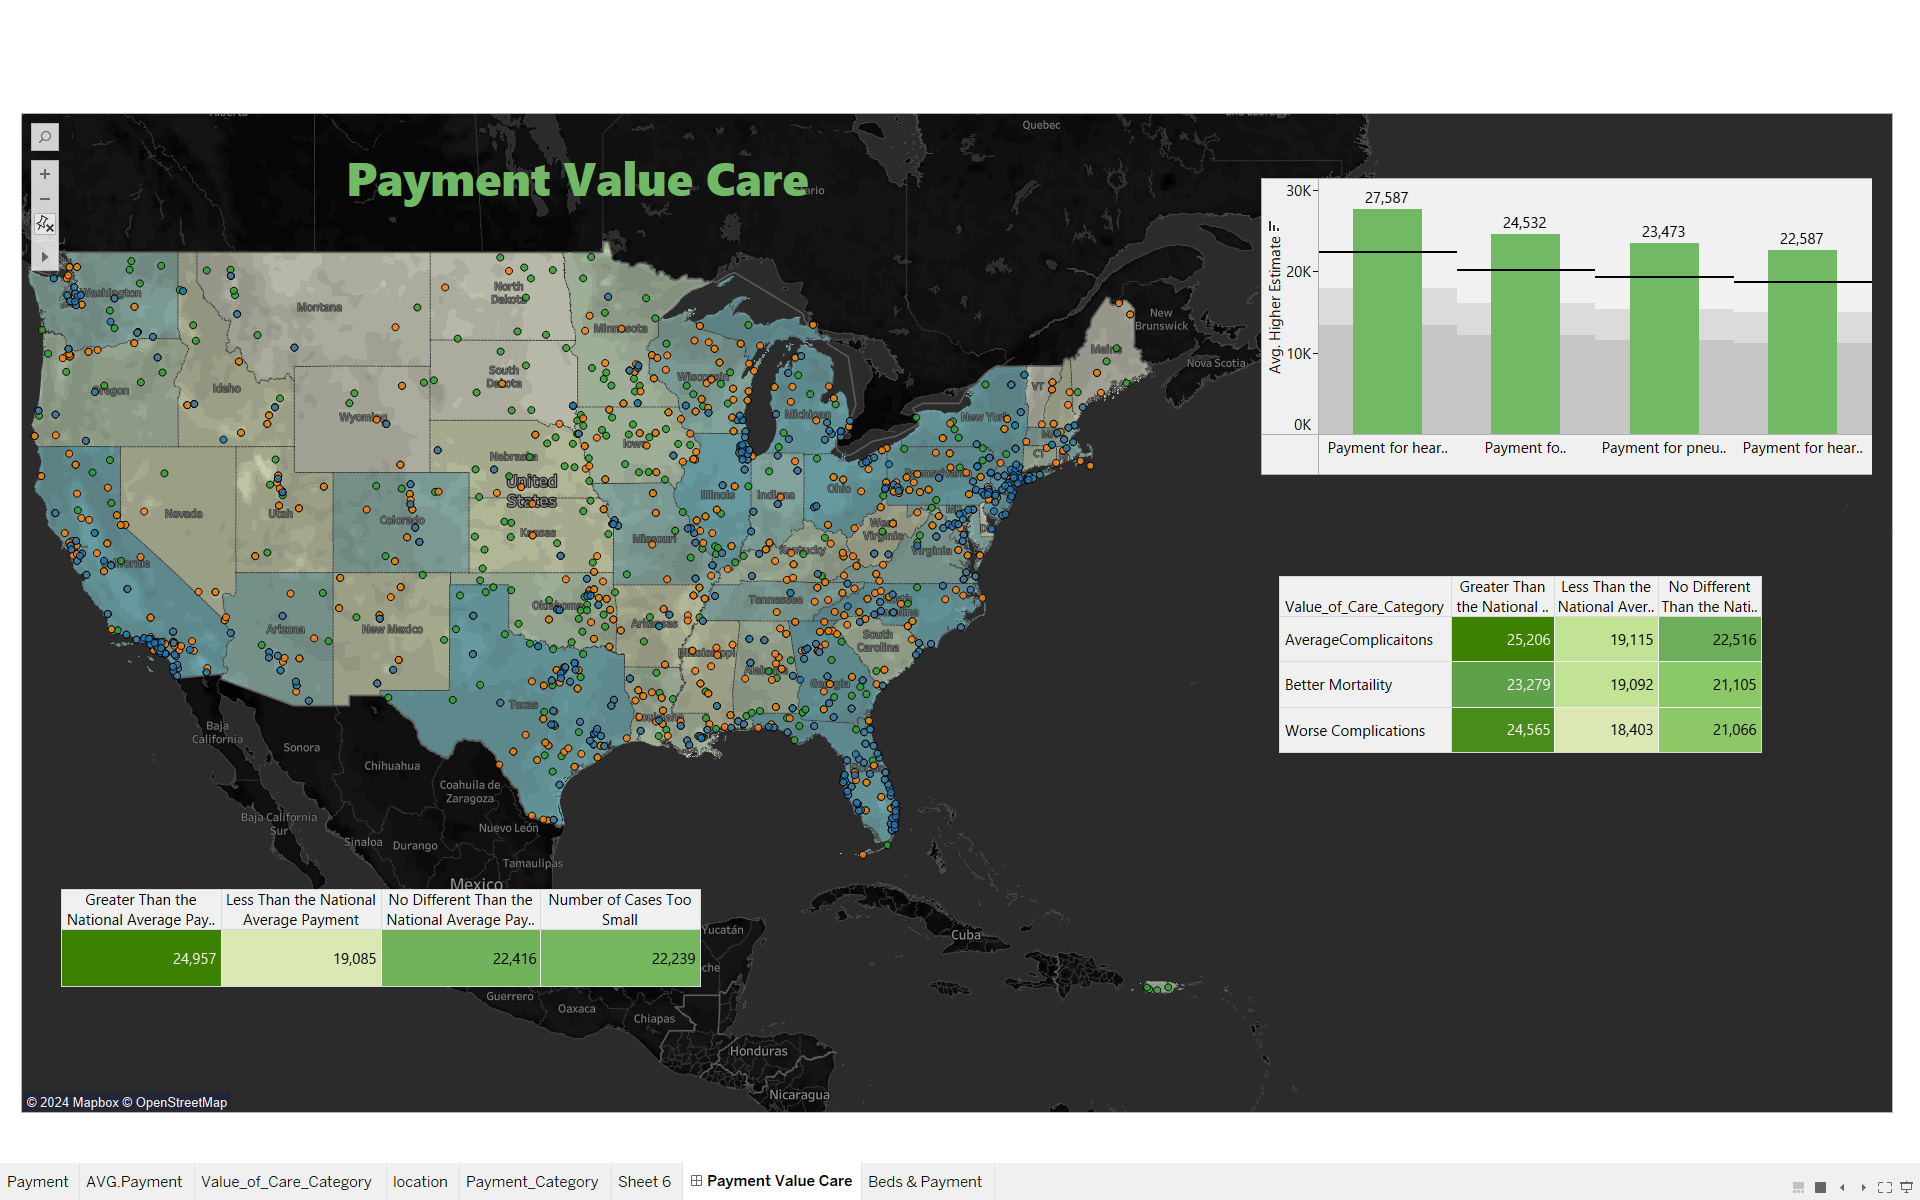

This screenshot's page, from the dashboard's own definition file:
{"tool":"tableau","page":{"name":"Payment Value Care","canvas":[1000,1000],"units":"permille","ordinal":0},"visuals":[{"type":"worksheet","title":"location","mark":"Multipolygon","box":[19.9,9.3,975.3,859.9]},{"type":"worksheet","title":"AVG.Payment","mark":"Automatic","rows":["Higher Estimate"],"cols":["Payment Measure Name"],"box":[656.6,153.5,318.7,255.4]},{"type":"worksheet","title":"Beds & Payment","mark":"GanttBar","rows":["Payment"],"cols":["Denominator"],"box":[537.7,158.6,333.1,332.7]},{"type":"worksheet","title":"Sheet 6","mark":"Square","cols":["Payment Category"],"box":[666.3,495.4,251.7,155.5]},{"type":"worksheet","title":"Payment_Category","mark":"Square","cols":["Payment Category"],"box":[32,764.2,333.1,84.5]}]}

Visuals, with their boxes on the dashboard's canvas, which has no fixed pixel size, in thousandths of its width and height (x1, y1, x2, y2). These are canvas units, not pixel positions in the 1920x1200 screenshot, which may show the page scaled, cropped or inside an application window:
"location" worksheet (Multipolygon marks): bbox(20, 9, 995, 869)
"AVG.Payment" worksheet: bbox(657, 154, 975, 409)
"Beds & Payment" worksheet (GanttBar marks): bbox(538, 159, 871, 491)
"Sheet 6" worksheet (Square marks): bbox(666, 495, 918, 651)
"Payment_Category" worksheet (Square marks): bbox(32, 764, 365, 849)
